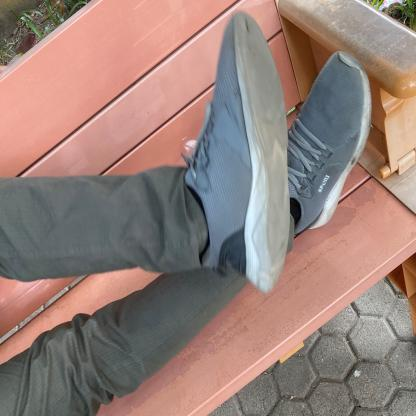leg: (82, 9, 298, 294), (269, 29, 393, 250)
